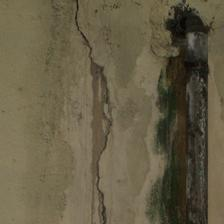Crack: (37, 2, 82, 219)
